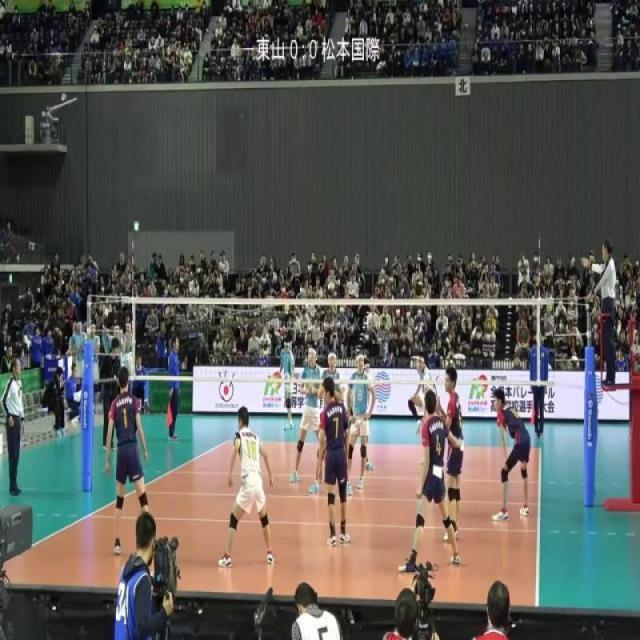volleyball: (283, 372, 290, 384)
